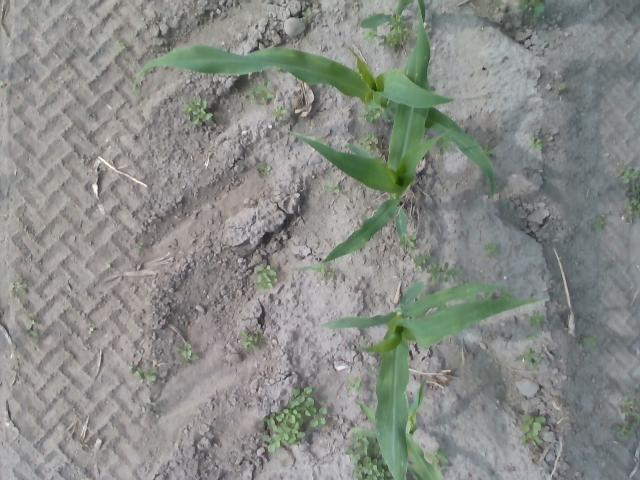Maize: (133, 43, 498, 201), (316, 277, 549, 480), (284, 0, 452, 273), (346, 377, 441, 480), (360, 0, 414, 28)
Weeds: (262, 386, 326, 452), (342, 432, 388, 480), (364, 14, 409, 48), (617, 163, 640, 224), (178, 94, 215, 123), (518, 411, 546, 449), (125, 358, 161, 382), (427, 262, 463, 284), (254, 262, 280, 292), (515, 346, 542, 374), (246, 80, 278, 103), (238, 328, 268, 352), (172, 340, 200, 362), (619, 395, 640, 424), (312, 262, 337, 284), (518, 0, 546, 19), (409, 250, 432, 272), (6, 276, 28, 299), (425, 446, 447, 468), (344, 376, 366, 395), (360, 131, 382, 150), (254, 160, 274, 180), (144, 396, 163, 417), (361, 106, 382, 124), (324, 180, 342, 199), (24, 315, 38, 339), (610, 424, 634, 438), (527, 132, 545, 150), (528, 310, 546, 328), (398, 233, 418, 249), (484, 242, 499, 259), (272, 105, 286, 122), (580, 334, 598, 347), (113, 34, 126, 51), (438, 138, 451, 154), (594, 215, 605, 231), (553, 80, 567, 92), (483, 142, 495, 156), (498, 292, 515, 300), (302, 11, 312, 22), (501, 198, 509, 211), (133, 242, 145, 249), (88, 327, 98, 335), (528, 333, 538, 340), (368, 362, 374, 371), (521, 312, 527, 320), (106, 260, 112, 268)
